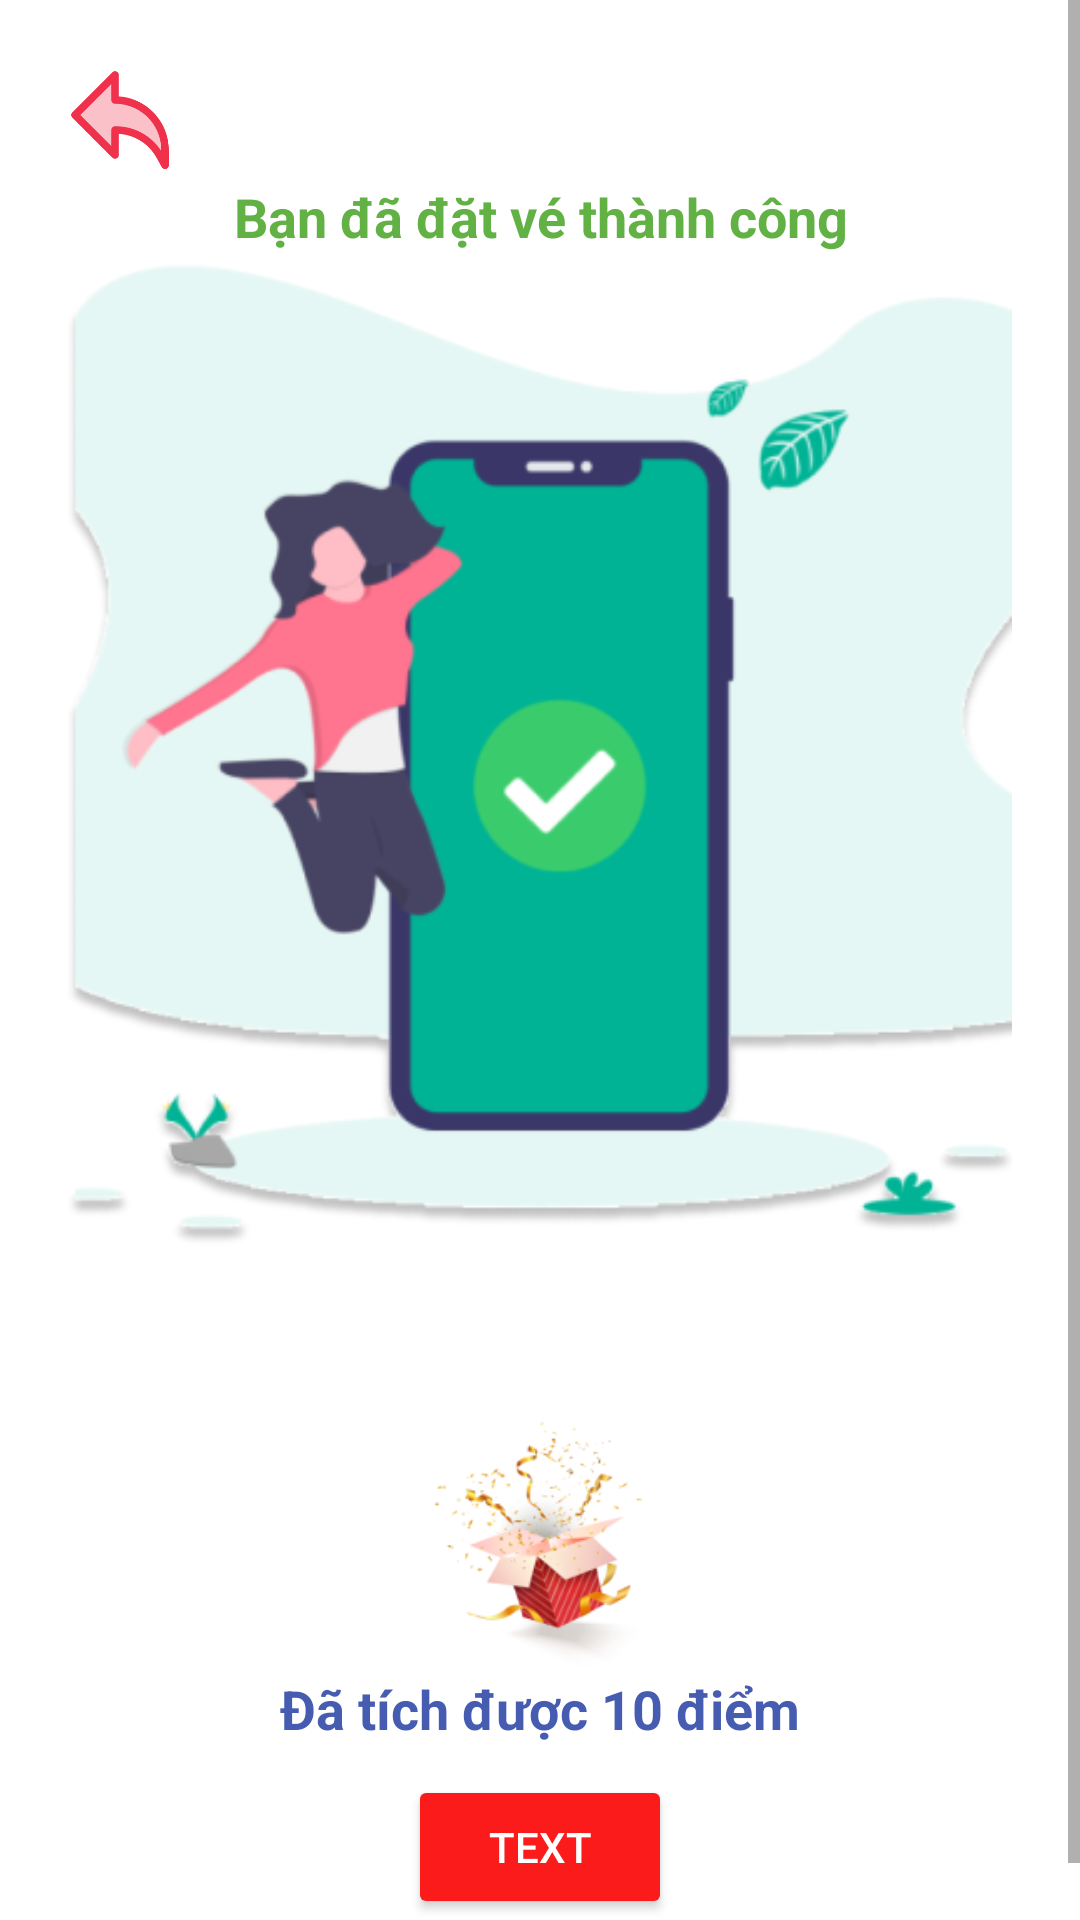

Icon bounding boxes for this 1080w x 1920h phone screenshot, format bbox(x1, y1, x2, y2):
return: bbox(71, 71, 169, 169)
